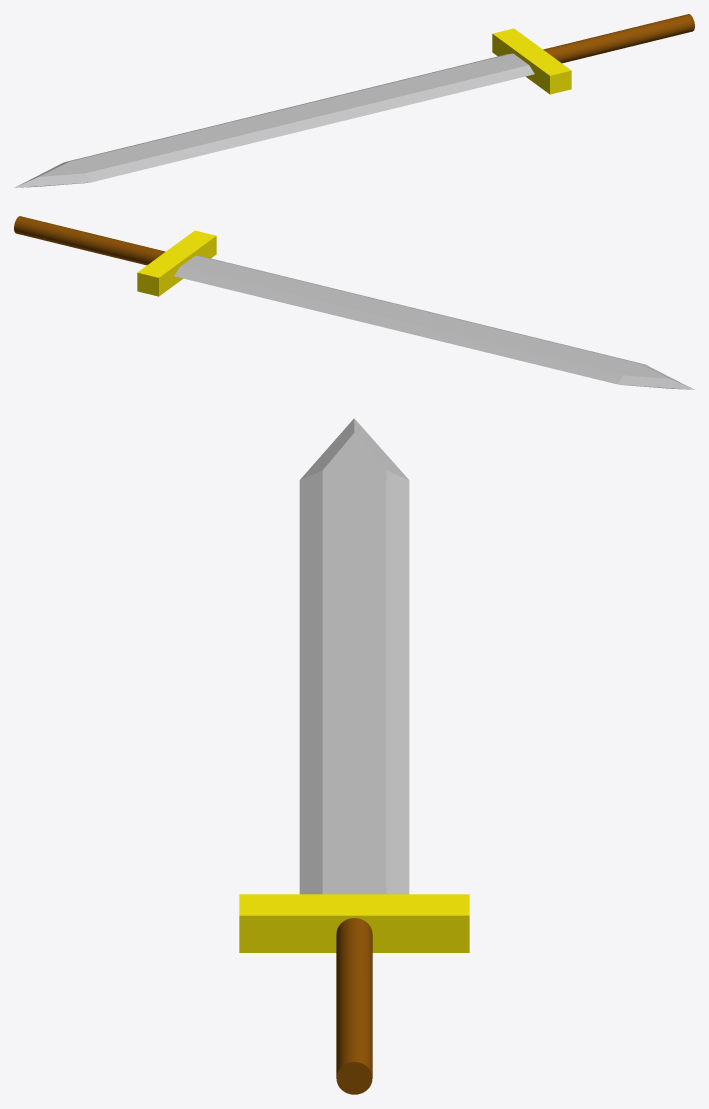
File: SimpleGameSword.fbx
3 views of the same model, one above another, from view 1: azimuth 30°, elevation 25°; view 2: azimuth 150°, elevation 25°; view 3: azimuth 270°, elevation 25° (orthographic). The views are drawn at different scales.
Parts seen in each view (by area): view 1: Cube, Cylinder, Cube.001; view 2: Cube, Cylinder, Cube.001; view 3: Cube, Cube.001, Cylinder.
Part boxes in pixels (x1=…): Cube: x1=14, y1=53, x2=534, y2=187; Cylinder: x1=543, y1=14, x2=694, y2=63; Cube.001: x1=492, y1=28, x2=571, y2=94; Cube: x1=174, y1=255, x2=694, y2=389; Cylinder: x1=14, y1=216, x2=165, y2=265; Cube.001: x1=137, y1=230, x2=216, y2=296; Cube: x1=299, y1=418, x2=409, y2=894; Cube.001: x1=239, y1=894, x2=469, y2=952; Cylinder: x1=336, y1=918, x2=372, y2=1094.
Bounding box in the file's own units: 435 × 11.53 × 64.2.
